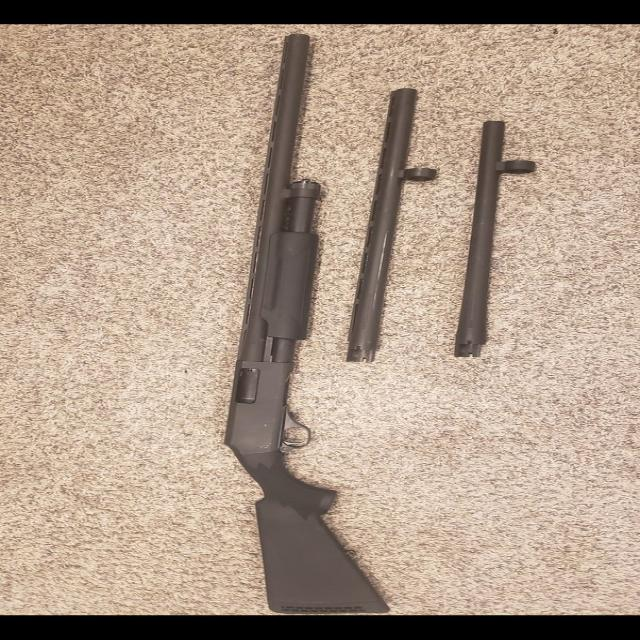ShotGun: (230, 35, 386, 613)
